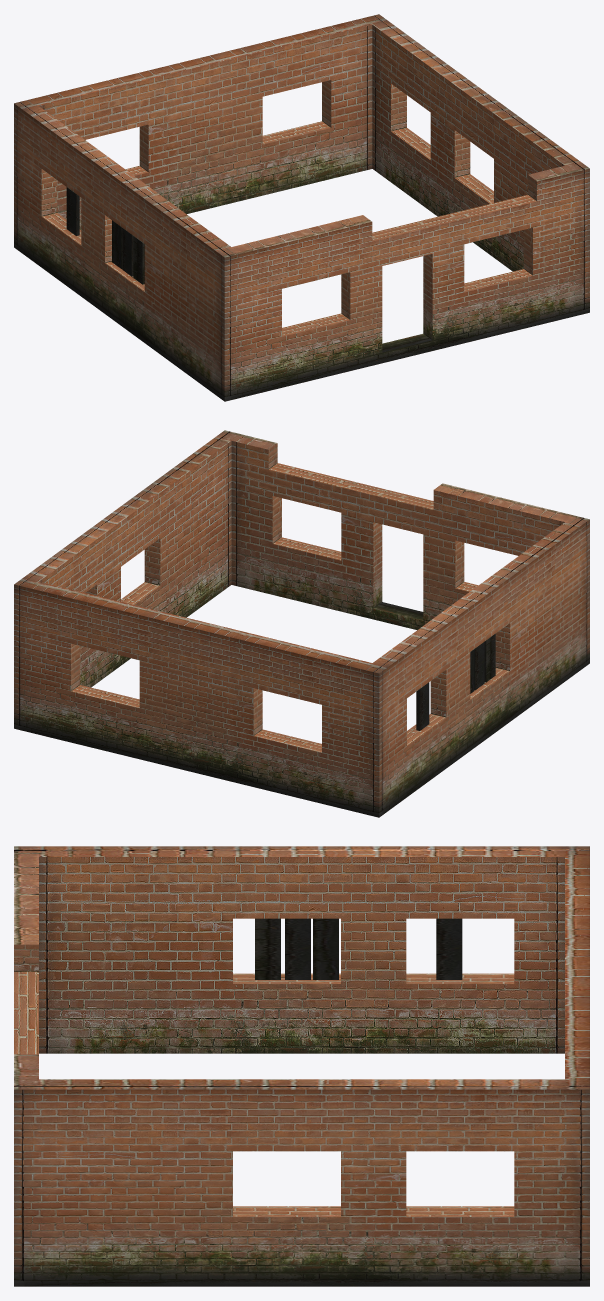
The model's file is r402_ishim_ruina.FBX.
3 renders of one model, top to bottom at view 1: azimuth 30°, elevation 25°; view 2: azimuth 150°, elevation 25°; view 3: azimuth 270°, elevation 25°, orthographic. The views are drawn at different scales.
Parts seen in each view (by area): view 1: r402_ishim_ruina; view 2: r402_ishim_ruina; view 3: r402_ishim_ruina.
Boxes of the visible parts, <box> form: r402_ishim_ruina: <box>14,14,589,401</box>; r402_ishim_ruina: <box>14,430,589,817</box>; r402_ishim_ruina: <box>14,846,589,1286</box>.
Bounding box in the file's own units: 928 × 928 × 350.
